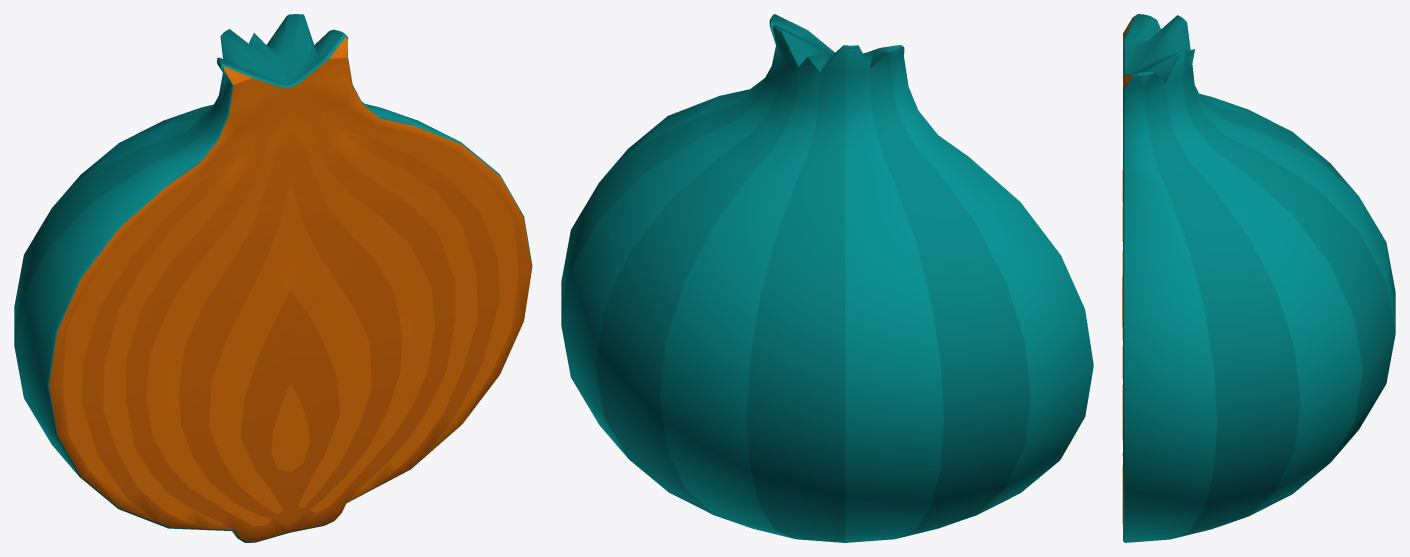
The model's file is Onion_red_half_03.fbx.
The picture shows the model from 3 angles, left to right: view 1: azimuth 30°, elevation 25°; view 2: azimuth 150°, elevation 25°; view 3: azimuth 270°, elevation 25°; orthographic projection. The views are drawn at different scales.
Parts seen in each view (by area): view 1: Onion_red_half_03; view 2: Onion_red_half_03; view 3: Onion_red_half_03.
Part boxes in pixels (left/top/right/bottom): Onion_red_half_03: left=14, top=14, right=532, bottom=542; Onion_red_half_03: left=561, top=14, right=1093, bottom=542; Onion_red_half_03: left=1122, top=14, right=1395, bottom=542.
Bounding box in the file's own units: 75.58 × 37.29 × 72.94.
